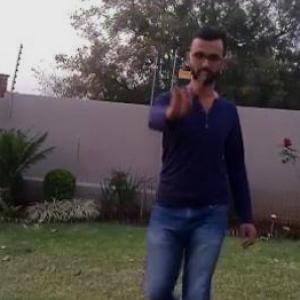takeoff-hand: (158, 72, 206, 123)
